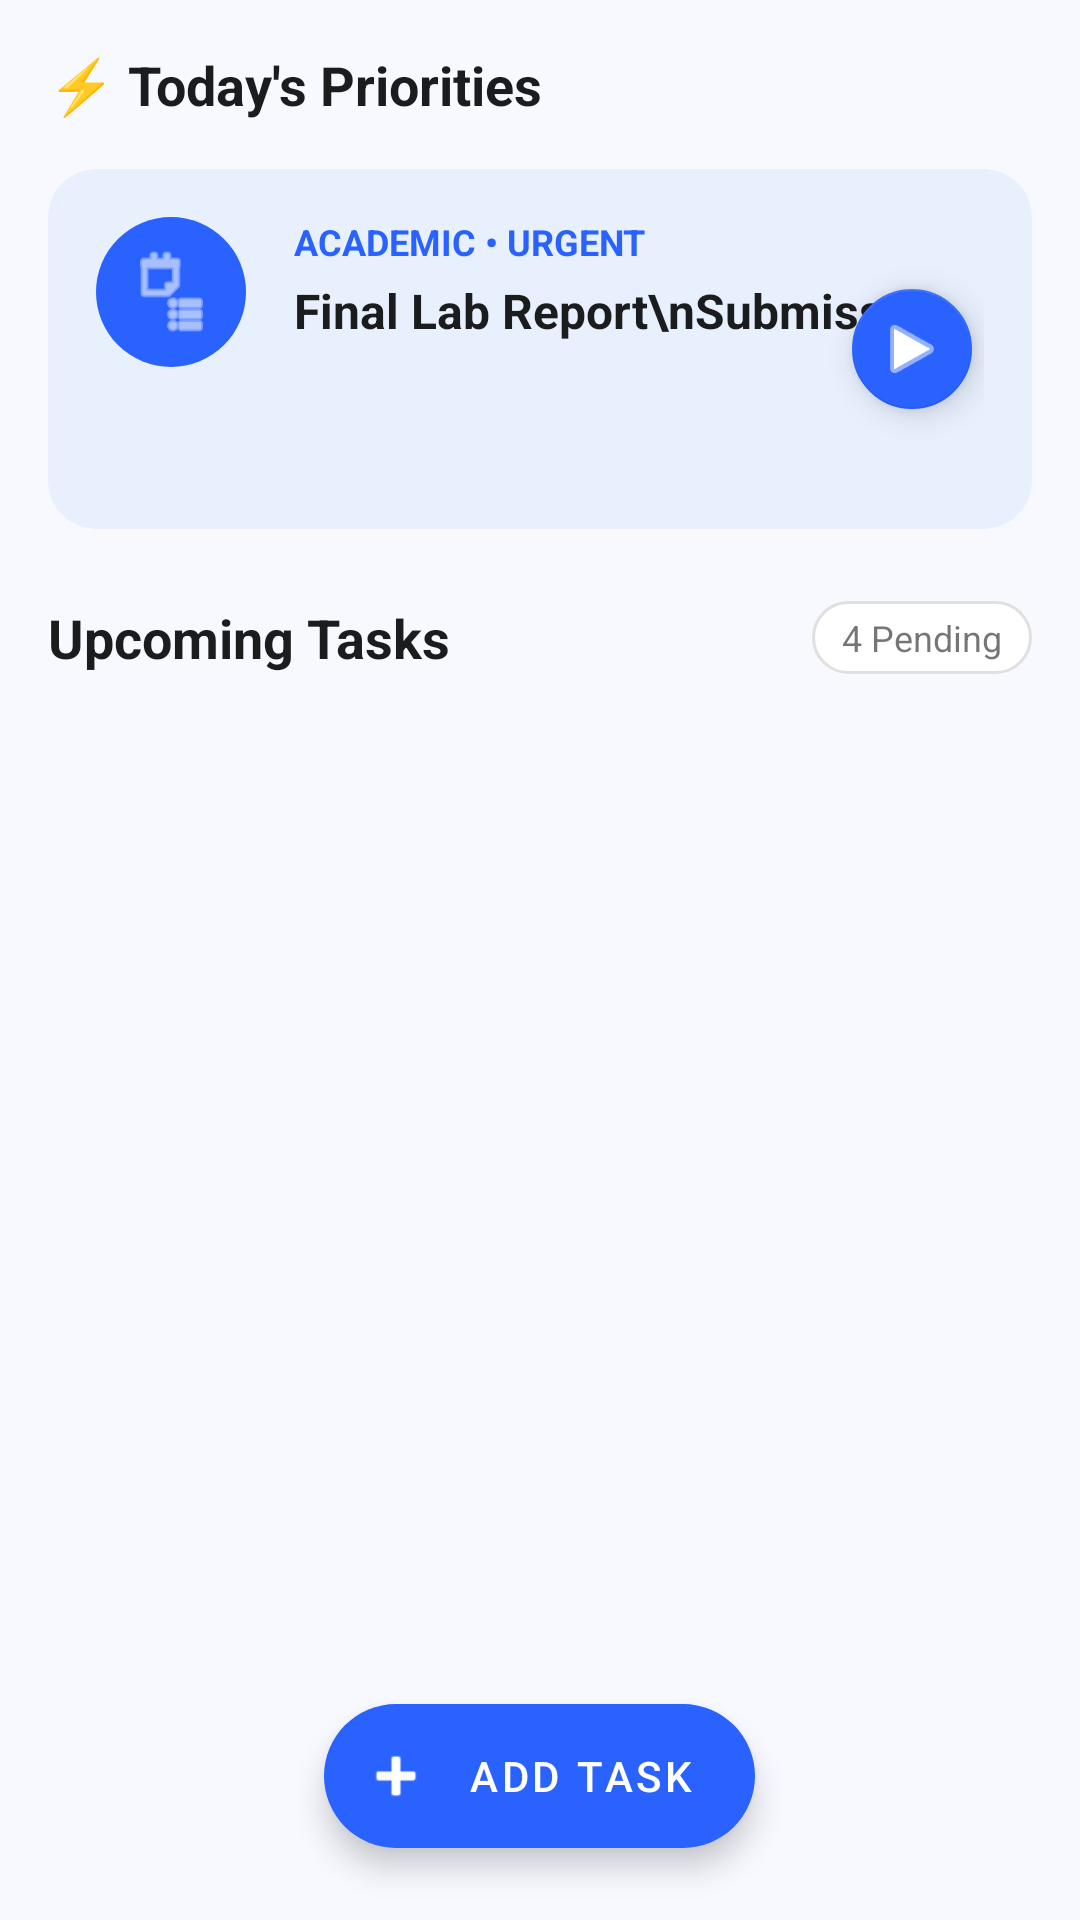

Point at icon controls on the screen. Image size 1080px×1920px, points as [x,y].
agenda: [171,292]
play: [906,349]
